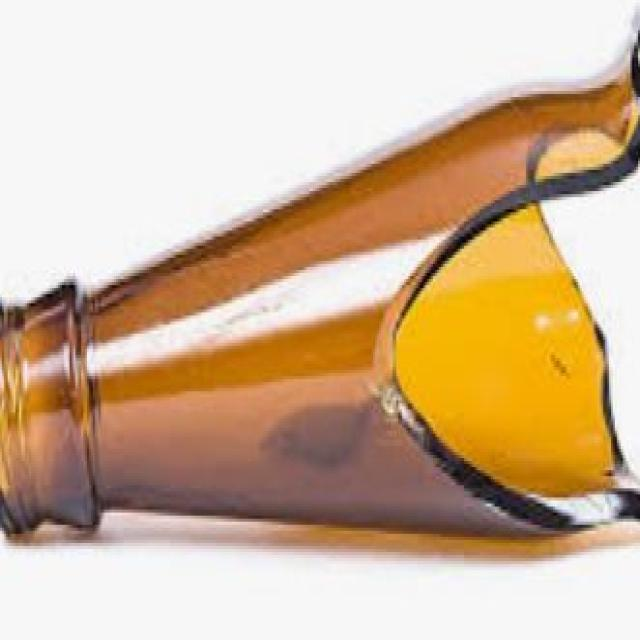electronic: (0, 6, 640, 544)
